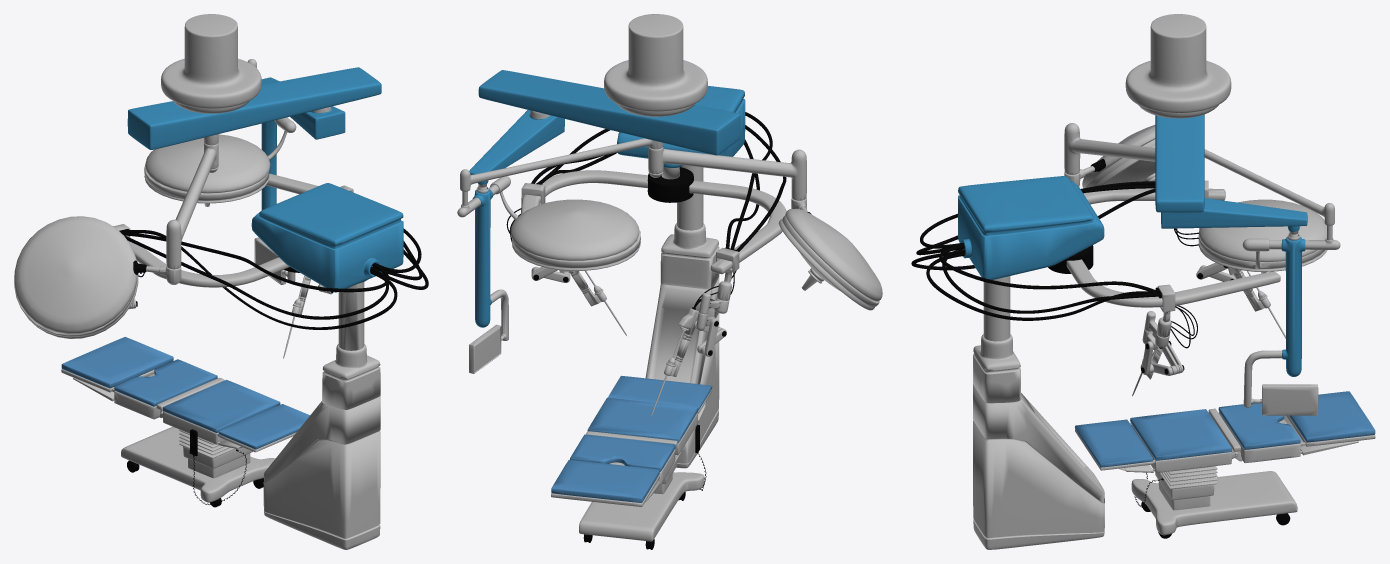
The model's file is Table.fbx.
The picture shows the model from 3 angles, left to right: view 1: azimuth 30°, elevation 25°; view 2: azimuth 150°, elevation 25°; view 3: azimuth 270°, elevation 25°; orthographic projection. The views are drawn at different scales.
Visible parts, largest first — view 1: _locator2pCylinder245; view 2: _locator2pCylinder245; view 3: _locator2pCylinder245.
Part boxes in pixels (left/top/right/bottom): _locator2pCylinder245: left=14, top=14, right=428, bottom=549; _locator2pCylinder245: left=457, top=14, right=882, bottom=549; _locator2pCylinder245: left=911, top=14, right=1375, bottom=549.
Size of the model in its own units: 194 by 239 by 205.
